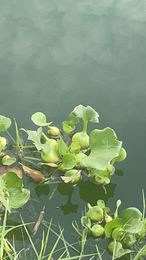water_hyacinth: (0, 103, 144, 255)
